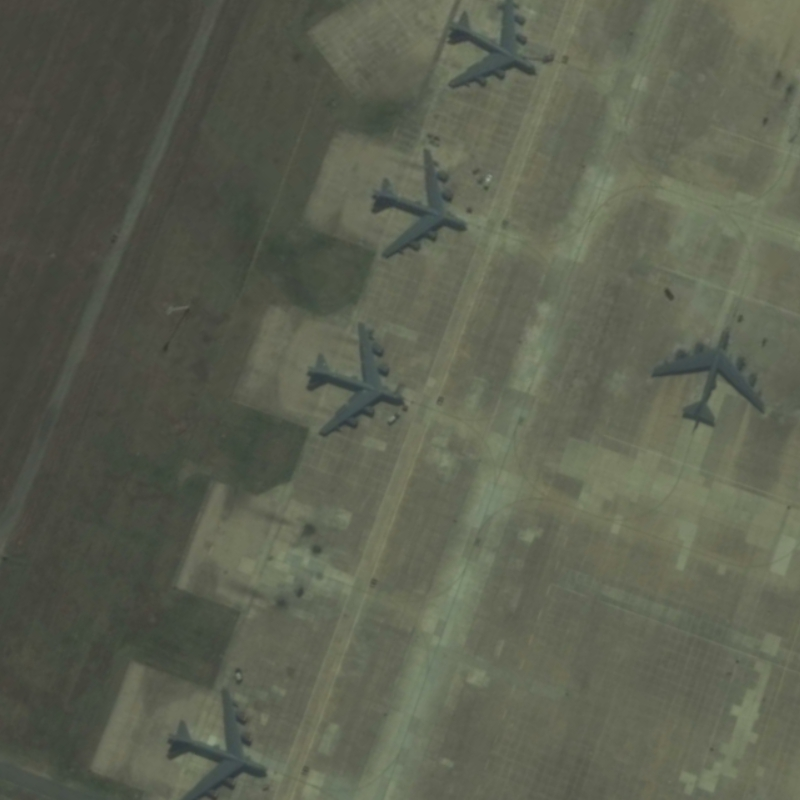A8: (647, 317, 772, 433), (163, 678, 274, 800), (364, 144, 471, 263), (304, 318, 408, 439), (441, 5, 545, 94)
